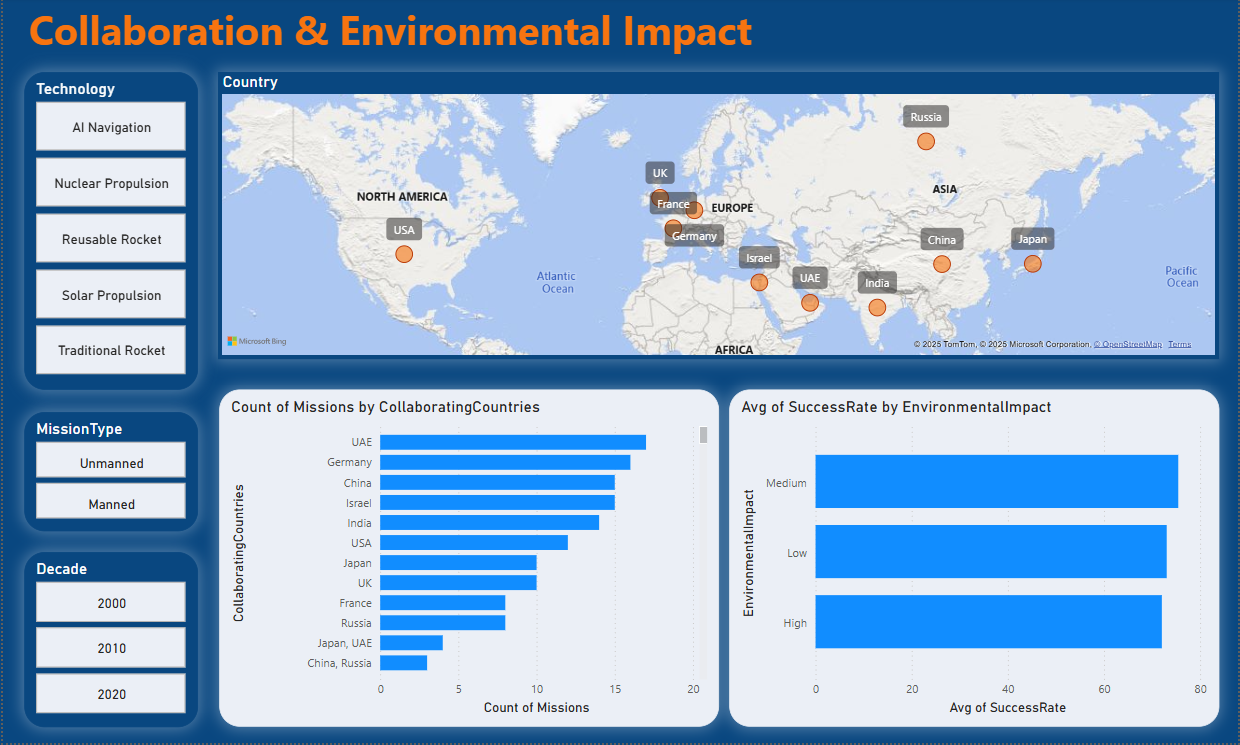

What the dashboard file says about the page in this screenshot:
{"tool":"powerbi","page":{"name":"Collaboration & Environmental Impact","canvas":[1325,800],"ordinal":3},"visuals":[{"type":"clusteredBarChart","fields":{"Category":["DimCollaboratingCountries.CollaboratingCountries"],"Y":["Count(FactMissions.MissionName)"]},"box":[231.9,420.9,536.2,361.9],"z":0},{"type":"clusteredBarChart","fields":{"Category":["DimEnvironmentalImpact.EnvironmentalImpact"],"Y":["Avg(FactMissions.SuccessRate)"]},"box":[778.8,420.9,525.5,361.9],"z":1000},{"type":"map","fields":{"Category":["DimCountry.Country"]},"box":[231.2,80.8,1073.9,308.3],"z":2000},{"type":"advancedSlicerVisual","fields":{"Values":["DimMissionType.MissionType"]},"box":[22.4,445,186.4,128],"z":3000},{"type":"advancedSlicerVisual","fields":{"Values":["DimYear.Decade"]},"box":[22.4,595.4,186.4,187.7],"z":4000},{"type":"advancedSlicerVisual","fields":{"Values":["DimTechnology.Technology"]},"box":[22.4,80.8,186.4,340.6],"z":5000},{"type":"textbox","box":[22.4,0,822.8,69.6],"z":6000}]}

Visuals, with their boxes in screenshot pixels (x1, y1, x2, y2), scaled from the page's 1325x800 canvas onto the 1240x745 screenshot:
clusteredBarChart - DimCollaboratingCountries.CollaboratingCountries x Count(FactMissions.MissionName): <box>217,392,719,729</box>
clusteredBarChart - DimEnvironmentalImpact.EnvironmentalImpact x Avg(FactMissions.SuccessRate): <box>729,392,1221,729</box>
map - DimCountry.Country: <box>216,75,1221,362</box>
advancedSlicerVisual - DimMissionType.MissionType: <box>21,414,195,534</box>
advancedSlicerVisual - DimYear.Decade: <box>21,554,195,729</box>
advancedSlicerVisual - DimTechnology.Technology: <box>21,75,195,392</box>
textbox: <box>21,0,791,65</box>
